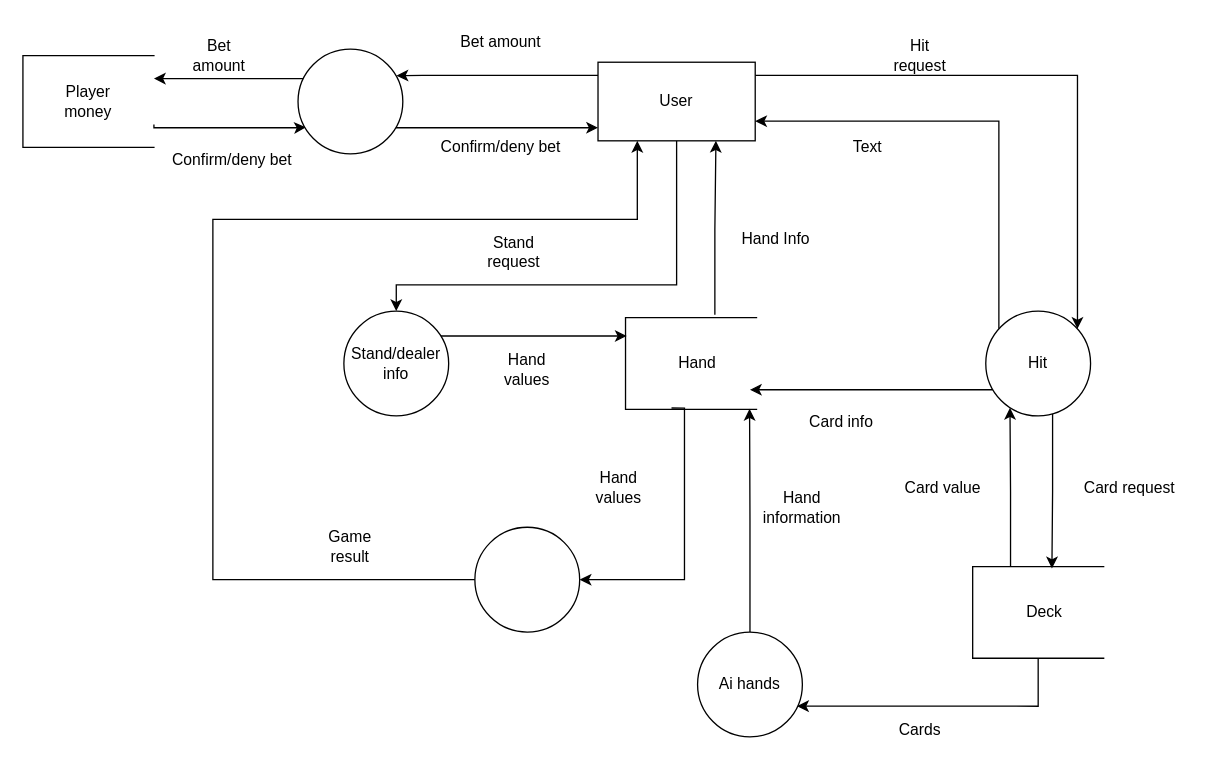
The diagram is 1205 pixels wide and 772 high, and some of its shapes have lost their labels. The centre of each missing label's shape, as x and y in pixels:
"Bet" goes at (x=350, y=101).
"Calculate hands" goes at (x=527, y=579).
